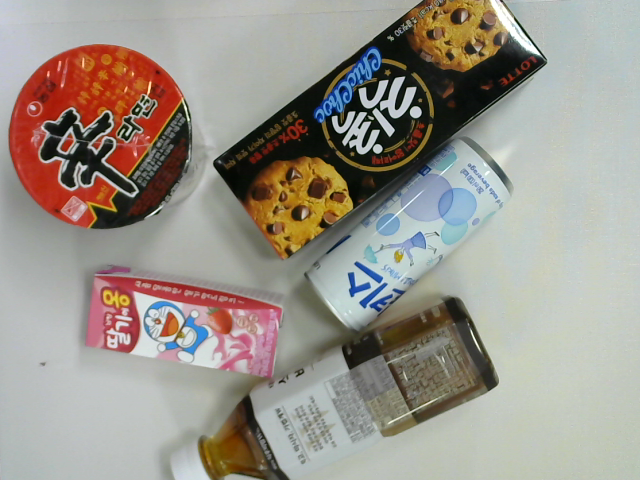Chicchok_Original_2400: (213, 1, 549, 262)
Milkies_250ml: (302, 135, 518, 333)
Post-meal_recipe_W_tea_500ml: (162, 295, 501, 480)
Sinramen_small: (7, 44, 207, 230)
Strawberry_E_Mong: (85, 261, 285, 383)
